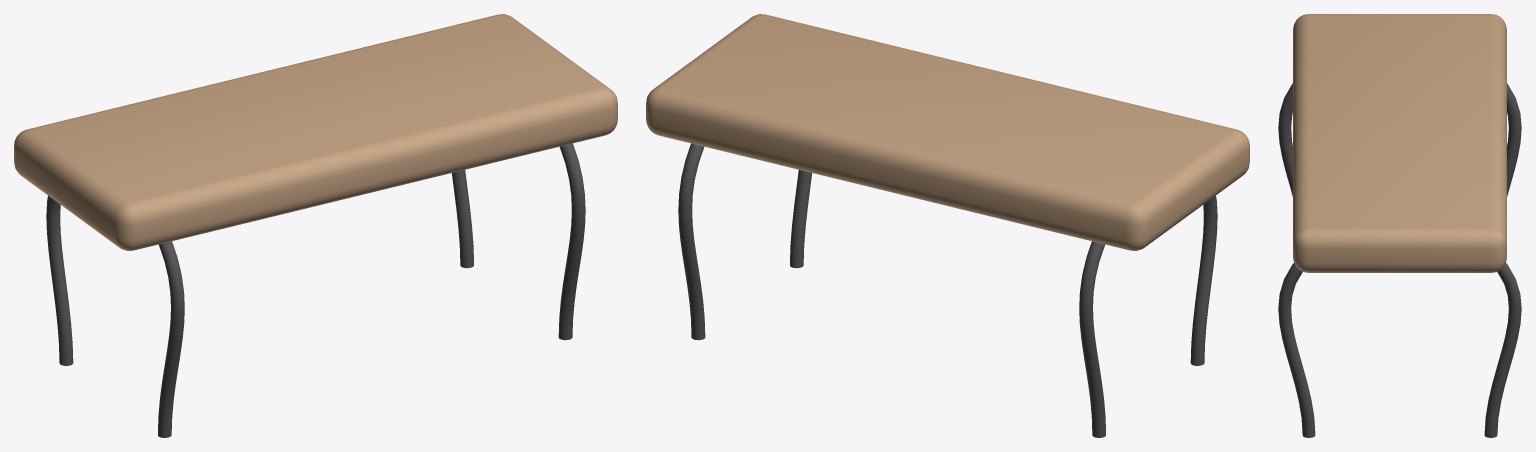
File: it_bench.glb
3 renders of one model, left to right at view 1: azimuth 30°, elevation 25°; view 2: azimuth 150°, elevation 25°; view 3: azimuth 270°, elevation 25°, orthographic. The views are drawn at different scales.
Parts seen in each view (by area): view 1: seat, leg-1, leg1; view 2: seat, leg-1, leg1; view 3: seat, leg1, leg-1.
Boxes of the visible parts, box(x1,y1,x2,y2) form: seat: box(14, 14, 617, 250); leg-1: box(46, 195, 184, 437); leg1: box(451, 143, 585, 340); seat: box(646, 14, 1249, 250); leg-1: box(1079, 195, 1217, 437); leg1: box(678, 143, 812, 340); seat: box(1293, 14, 1506, 272); leg1: box(1278, 263, 1521, 437); leg-1: box(1278, 83, 1521, 196).
Bounding box in the file's own units: 1 × 0.46 × 0.4548.
